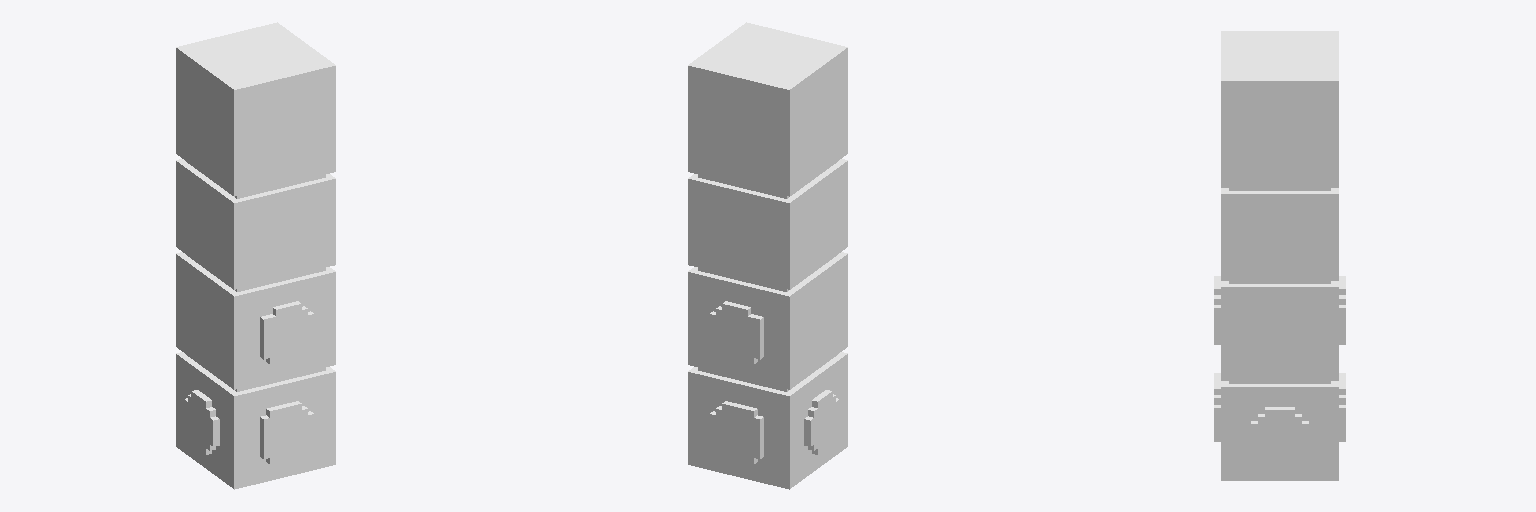
Rendered from totem.obj.
3 renders of one model, left to right at view 1: azimuth 30°, elevation 25°; view 2: azimuth 150°, elevation 25°; view 3: azimuth 270°, elevation 25°, orthographic.
Parts seen in each view (by area): view 1: Totem; view 2: Totem; view 3: Totem.
Boxes of the visible parts, <box> form: Totem: <box>176,22,335,489</box>; Totem: <box>688,22,847,489</box>; Totem: <box>1214,31,1345,480</box>.
Bounding box in the file's own units: 1.8 × 6 × 1.8.